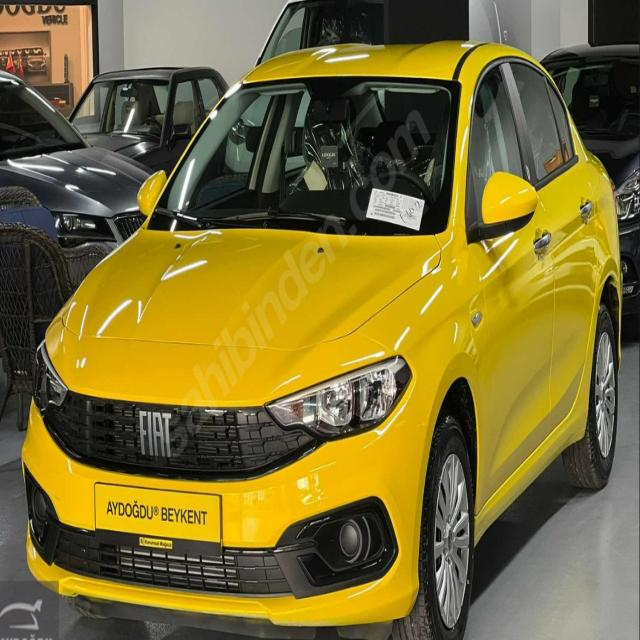fiat: (124, 398, 186, 469)
